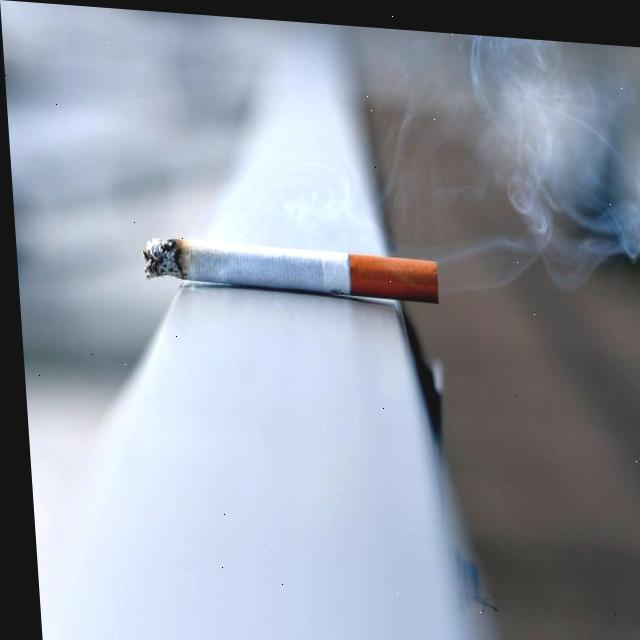cigarette: (140, 236, 436, 298)
